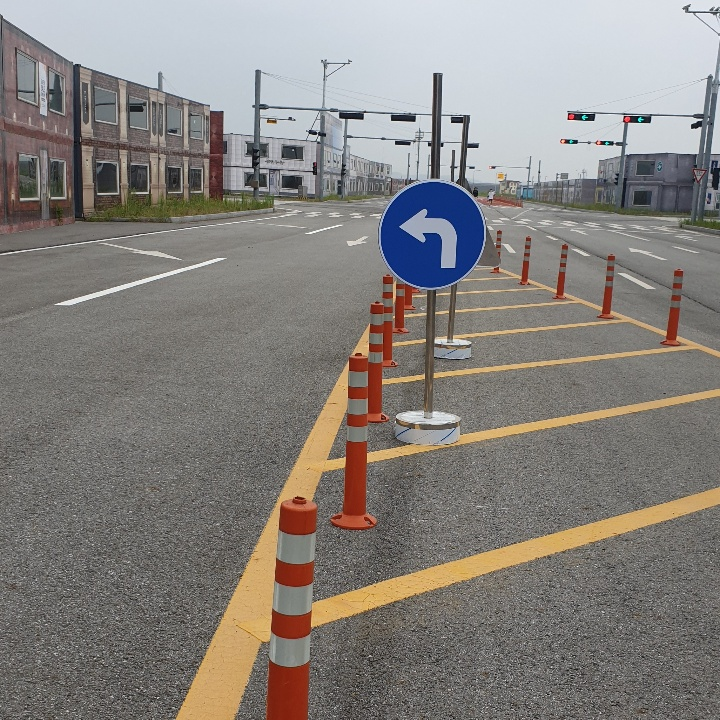left: (393, 208, 468, 273)
